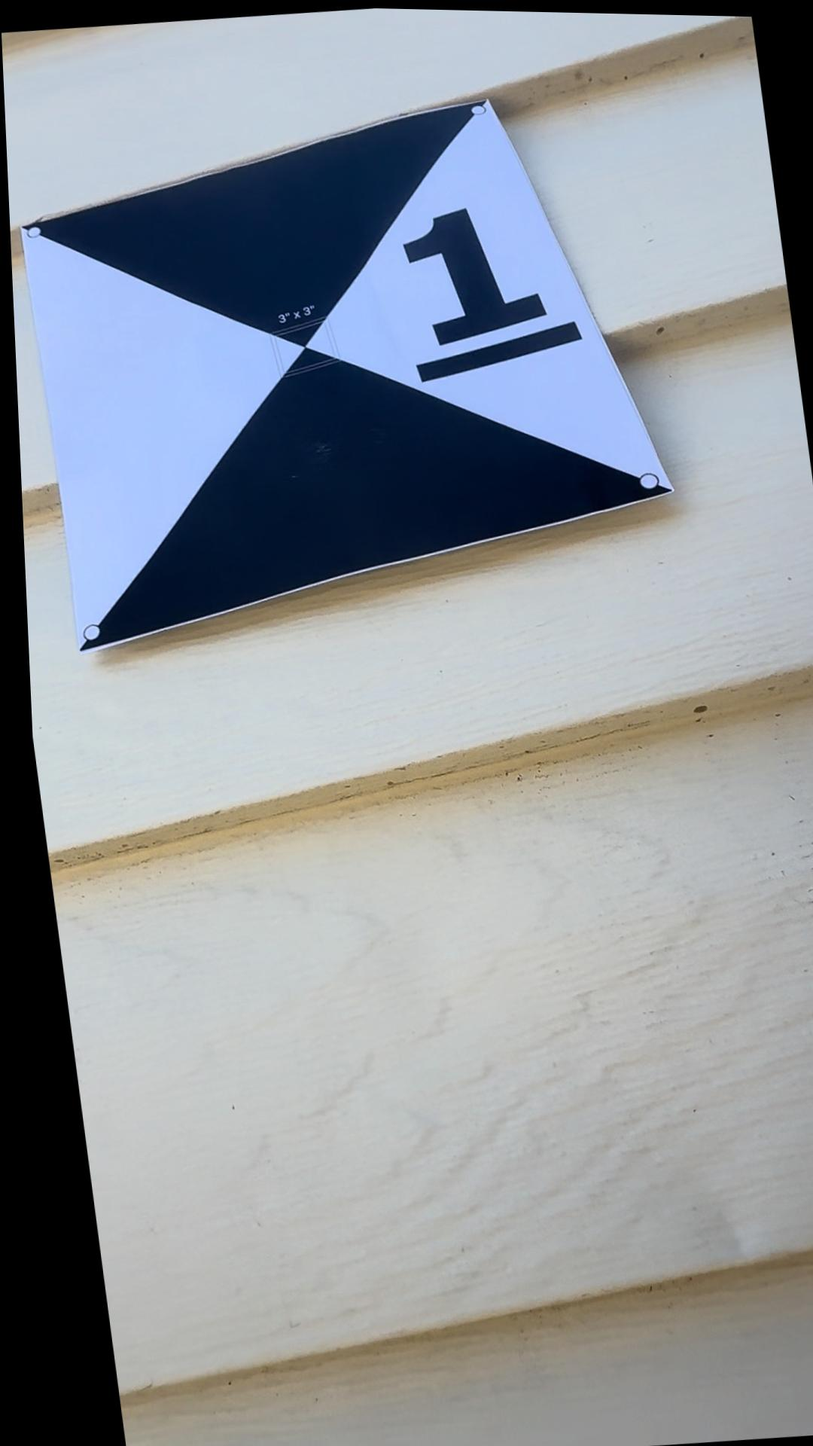target1: (10, 73, 696, 682)
